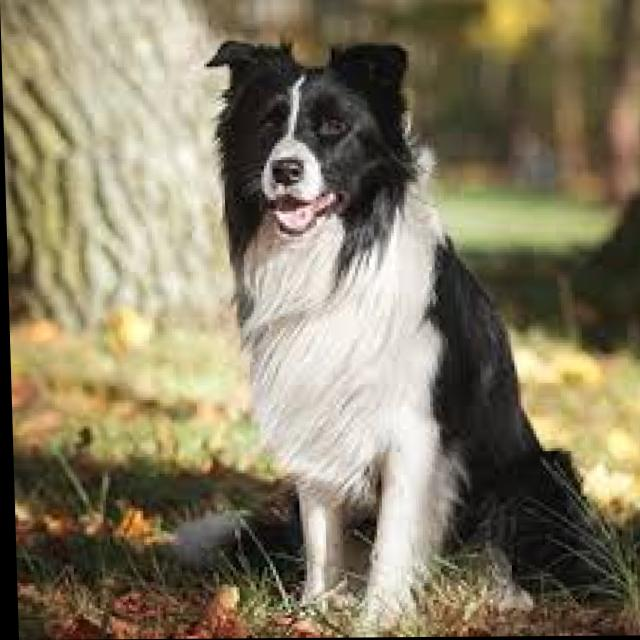BORDER_COLLIE: (130, 28, 640, 638)
